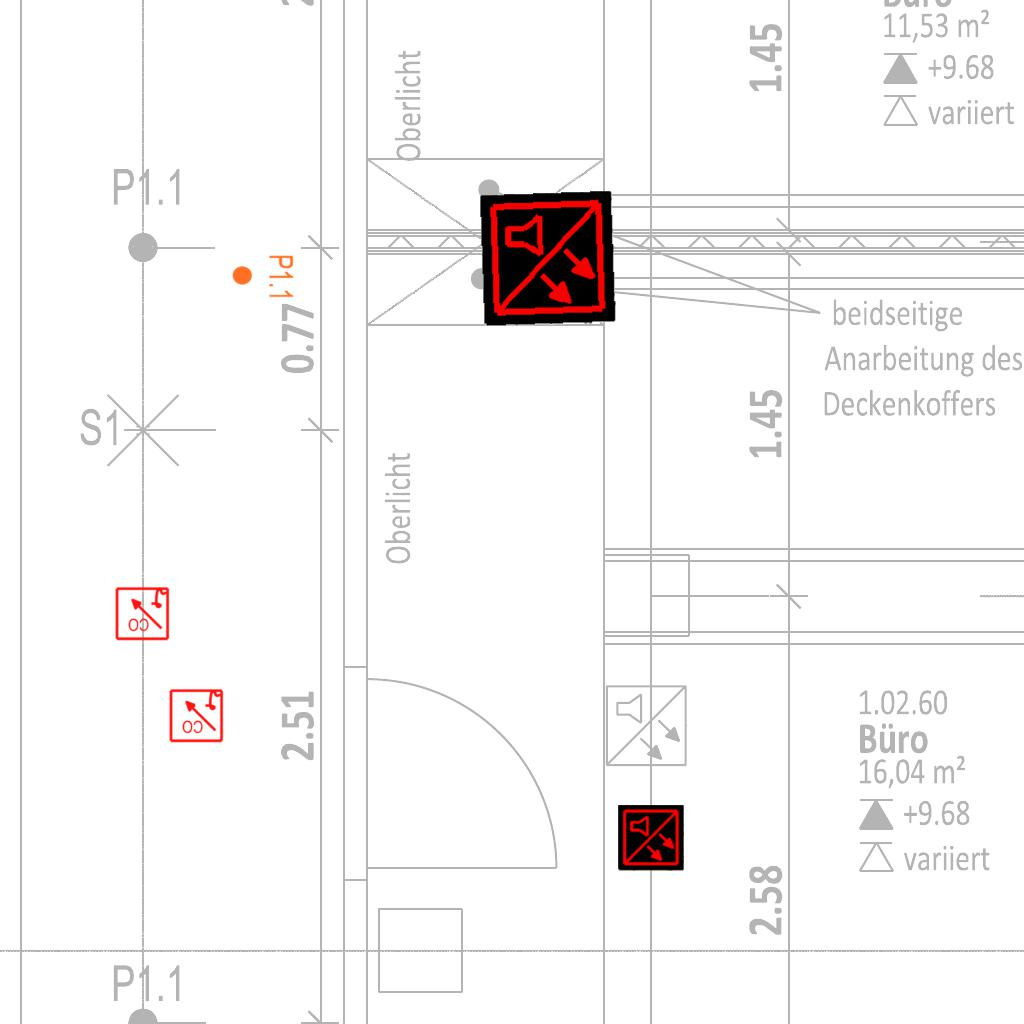Downlight_LED_Einbauleuchten_Flur: (231, 254, 295, 300)
OKW_Multisensormelder_(Kombination_optischer_Rauch-Kahlenmonoxid_Waerme-Melder): (479, 190, 617, 328), (618, 805, 684, 871)
ROA_Rauchmelder_optisch_mit_Signalgeber_(Sockelsirene): (114, 585, 170, 641), (168, 687, 224, 743)
